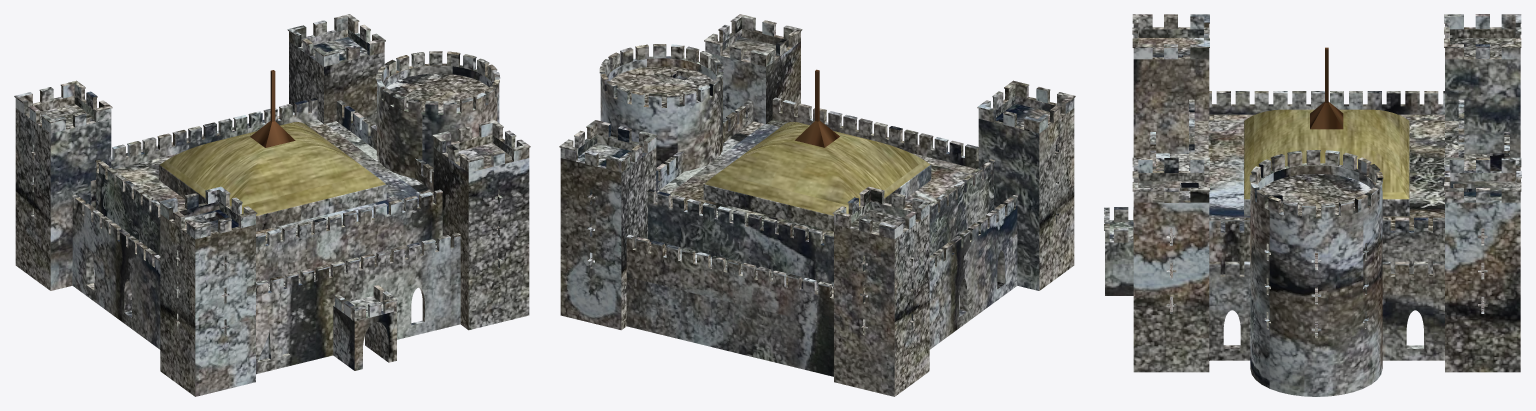
Rendered from keep.blend .fbx.
3 views of the same model, side by side, from view 1: azimuth 30°, elevation 25°; view 2: azimuth 150°, elevation 25°; view 3: azimuth 270°, elevation 25° (orthographic). The views are drawn at different scales.
Visible parts, largest first — view 1: Castle; view 2: Castle; view 3: Castle.
Part boxes in pixels (left/top/right/bottom): Castle: left=14, top=14, right=530, bottom=396; Castle: left=559, top=14, right=1075, bottom=396; Castle: left=1104, top=14, right=1521, bottom=396.
Size of the model in its own units: 5039 by 2779 by 4428.
